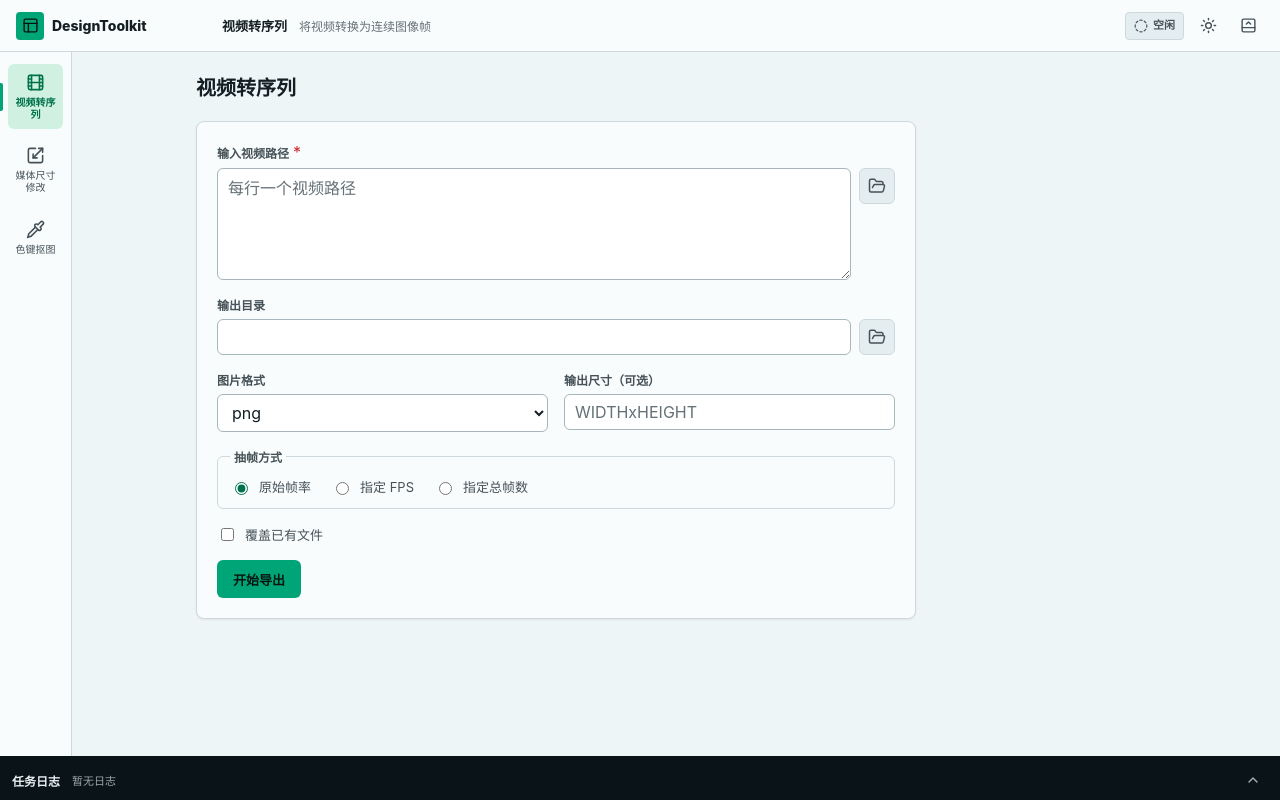
it: AppShell › restores navigation and preserves failure behavior when task creation rejects
Type "clip.webm" into the text box labelled "输入视频路径" at x=534, y=224, box [217,168,851,280]
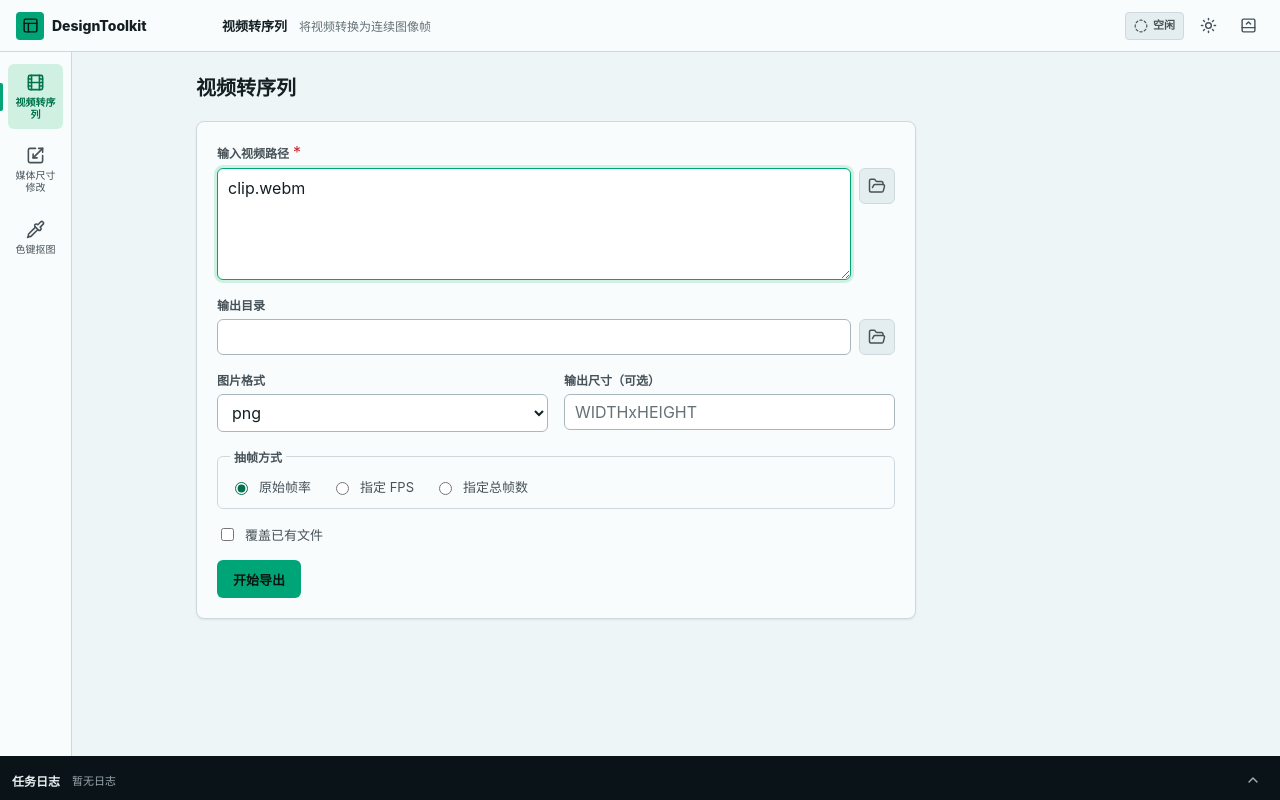
Click the button "开始导出" at x=259, y=579, box [217,560,301,598]
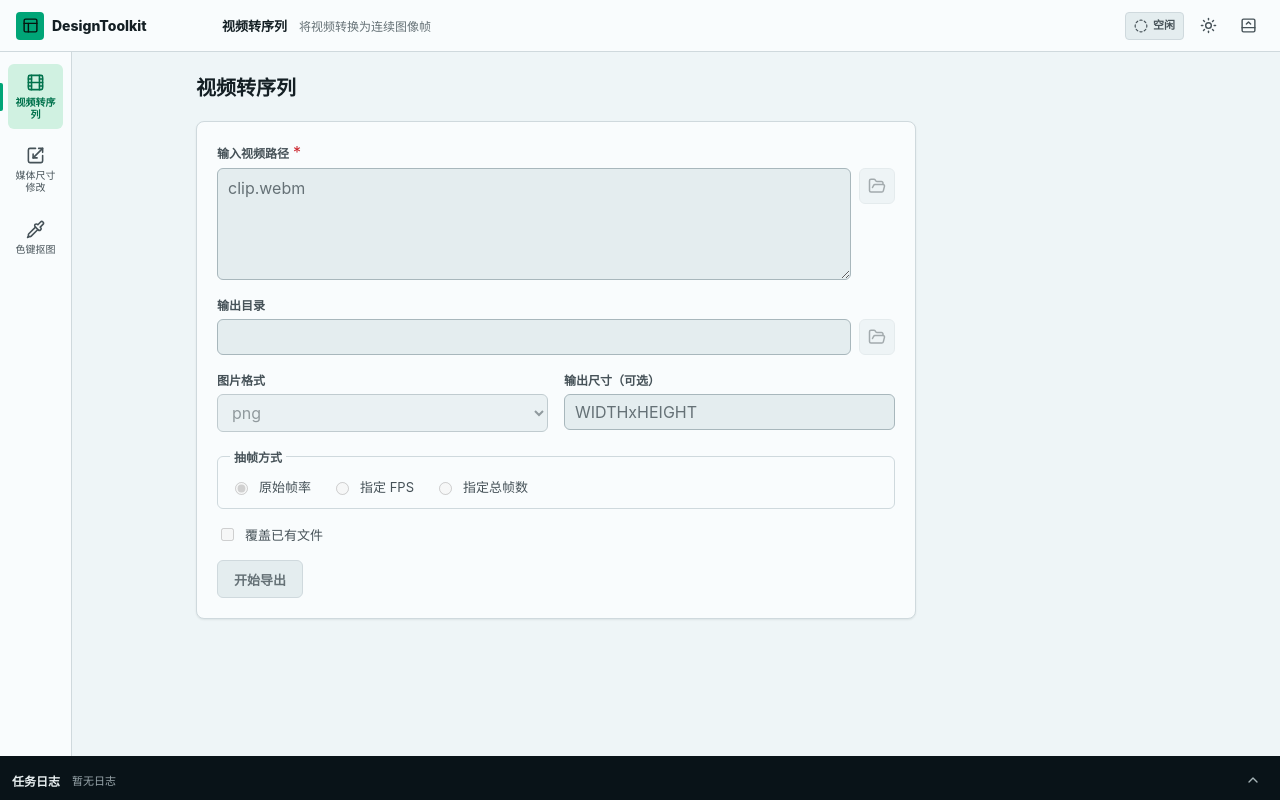
Click the button "媒体尺寸修改" at x=36, y=170, box [8,137,63,202]
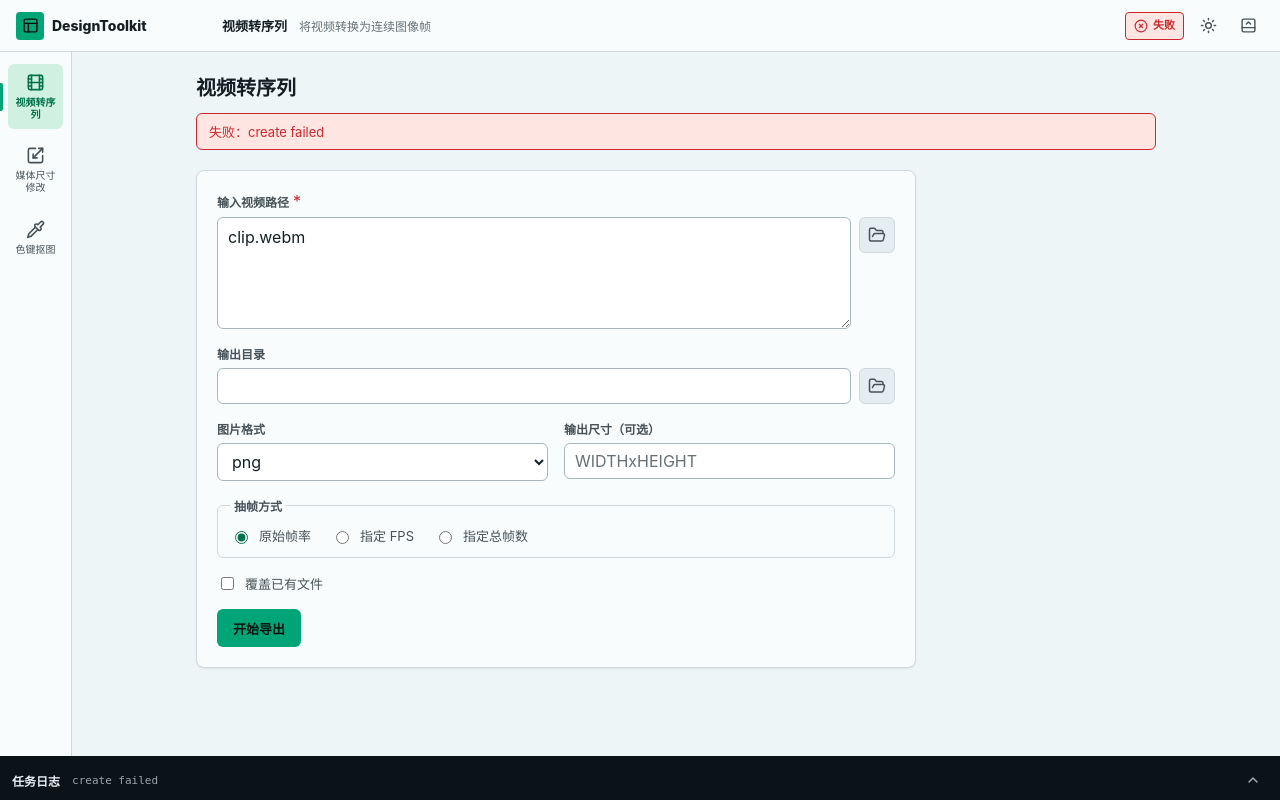
Expected: the heading "视频转序列" is shown, [196,76,296,100]
Expected: the message "失败：create failed" is shown, [196,113,1156,150]
